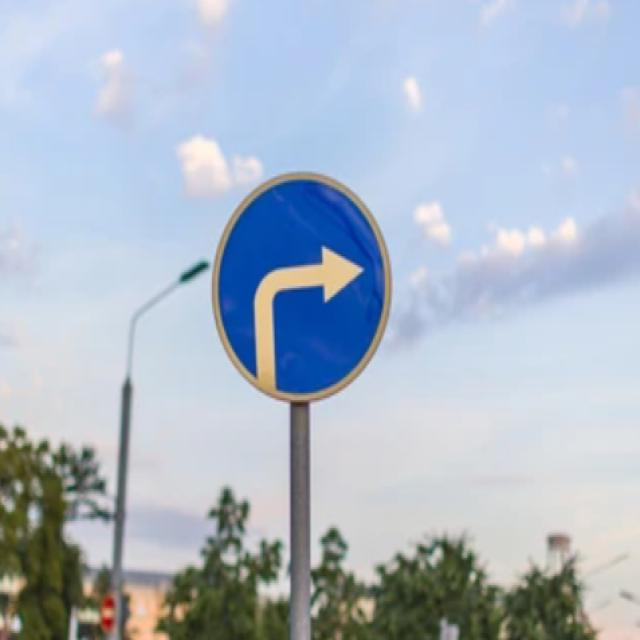RIGHT: (223, 180, 389, 391)
